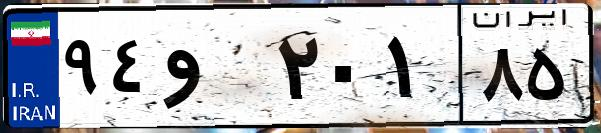0: (330, 28, 385, 110)
1: (385, 28, 445, 110)
2: (270, 28, 330, 110)
4: (110, 28, 158, 98)
5: (525, 38, 570, 115)
8: (475, 38, 525, 113)
9: (57, 26, 110, 100)
و: (158, 20, 270, 120)
